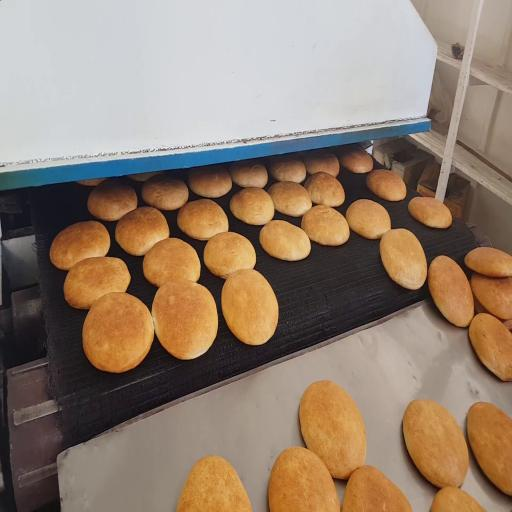bread: (299, 381, 366, 479), (403, 400, 468, 488), (83, 293, 153, 373), (152, 279, 218, 359), (269, 448, 339, 511), (222, 269, 278, 345), (467, 403, 511, 495), (177, 457, 251, 511), (64, 257, 130, 309), (428, 256, 474, 327), (341, 466, 412, 511), (50, 221, 110, 270), (380, 229, 427, 290), (469, 313, 511, 381), (143, 238, 200, 287), (115, 207, 169, 255), (204, 232, 255, 279), (177, 199, 228, 240), (88, 179, 137, 221), (260, 220, 310, 260), (301, 205, 349, 246), (471, 274, 511, 319), (346, 199, 390, 239), (230, 187, 274, 225), (142, 174, 188, 210), (268, 182, 311, 217), (189, 165, 232, 198), (304, 172, 345, 206), (465, 247, 511, 277), (408, 197, 452, 228), (431, 487, 485, 511), (366, 170, 406, 201), (229, 161, 267, 188), (270, 156, 306, 183), (303, 152, 339, 177), (340, 147, 373, 173), (128, 172, 163, 182), (474, 295, 488, 314), (77, 178, 105, 186)
